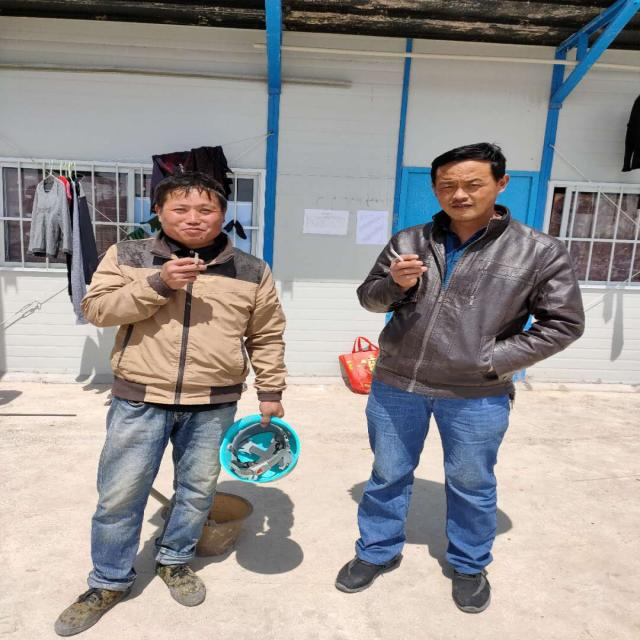smoke: (388, 245, 405, 266), (188, 250, 202, 266)
